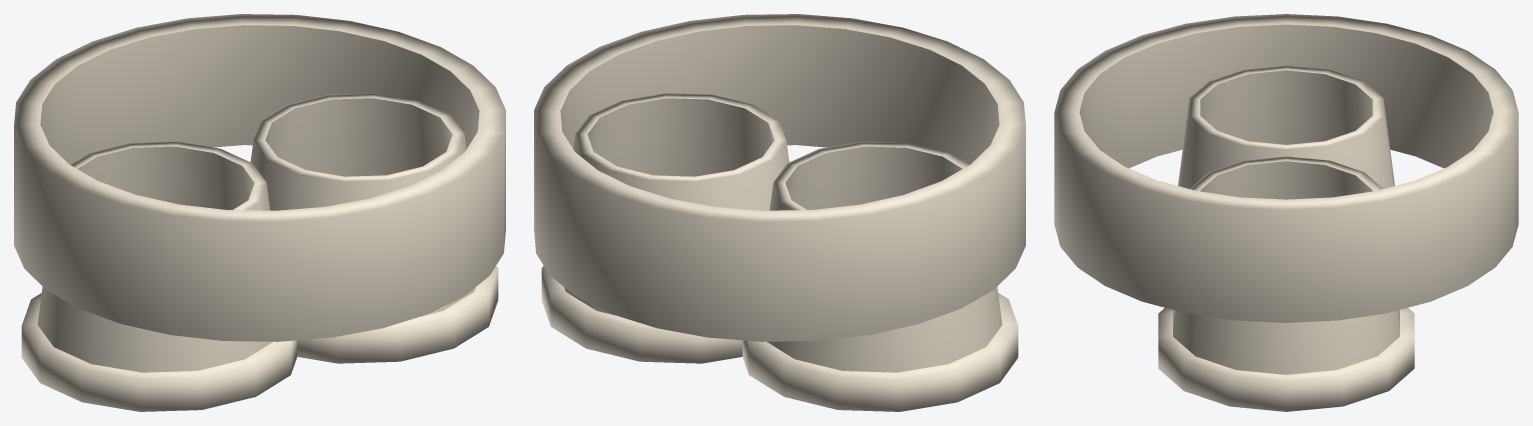
The model's file is culottes.glb.
The picture shows the model from 3 angles, left to right: view 1: azimuth 30°, elevation 25°; view 2: azimuth 150°, elevation 25°; view 3: azimuth 270°, elevation 25°; orthographic projection. The views are drawn at different scales.
Parts seen in each view (by area): view 1: culottes_Body, culottes_LegL, culottes_LegR; view 2: culottes_Body, culottes_LegL, culottes_LegR; view 3: culottes_Body, culottes_LegR, culottes_LegL.
Part boxes in pixels (left/top/right/bottom): culottes_Body: left=14, top=14, right=505, bottom=341; culottes_LegL: left=21, top=141, right=297, bottom=411; culottes_LegR: left=250, top=93, right=498, bottom=363; culottes_Body: left=534, top=14, right=1025, bottom=341; culottes_LegL: left=742, top=141, right=1018, bottom=411; culottes_LegR: left=541, top=93, right=789, bottom=363; culottes_Body: left=1054, top=14, right=1518, bottom=322; culottes_LegR: left=1158, top=156, right=1414, bottom=411; culottes_LegL: left=1178, top=65, right=1394, bottom=188.
Bounding box in the file's own units: 0.422 × 0.194 × 0.41.
